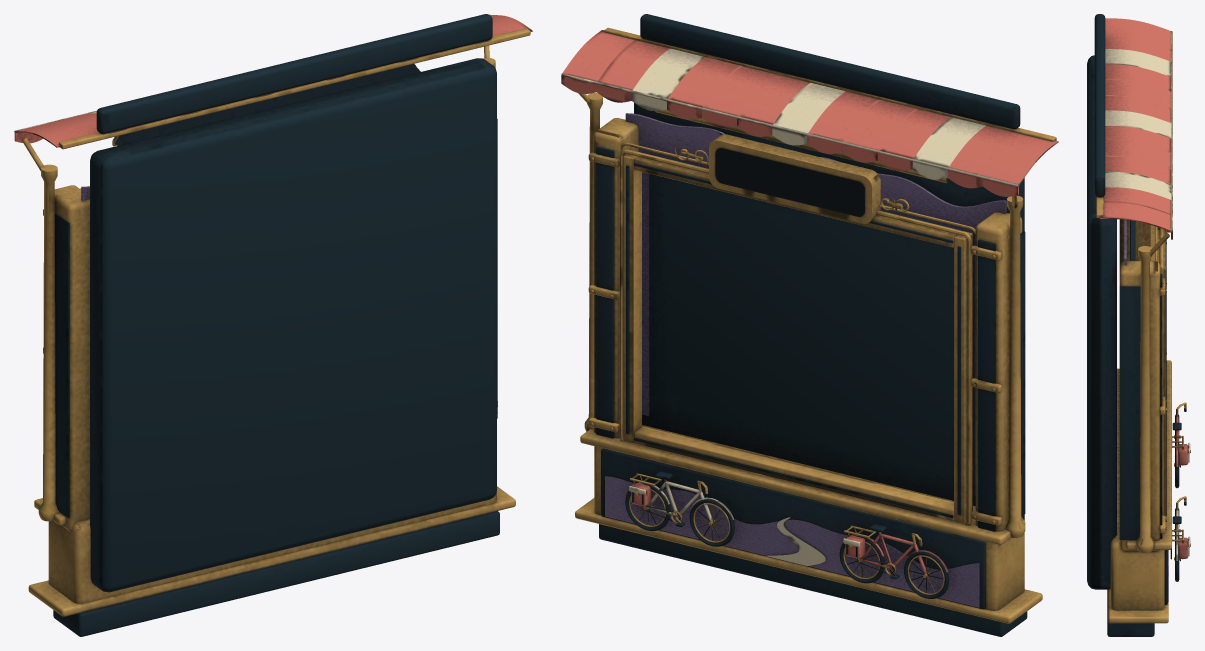
3 views of the same model, side by side, from view 1: azimuth 30°, elevation 25°; view 2: azimuth 150°, elevation 25°; view 3: azimuth 270°, elevation 25° (orthographic). The views are drawn at different scales.
Parts seen in each view (by area): view 1: Deep_blue_enamel, Brushed_brass, Coral_canvas; view 2: Deep_blue_enamel, Brushed_brass, Coral_canvas, Violet_hills, Ivory_canvas, Dark_display; view 3: Deep_blue_enamel, Brushed_brass, Coral_canvas, Ivory_canvas, Violet_hills.
Part boxes in pixels (x1,y1,x2,y2): Deep_blue_enamel: (53, 14, 499, 636); Brushed_brass: (22, 28, 530, 616); Coral_canvas: (14, 15, 532, 147); Deep_blue_enamel: (596, 14, 1027, 636); Brushed_brass: (575, 27, 1056, 623); Coral_canvas: (561, 30, 1058, 573); Violet_hills: (605, 113, 1006, 607); Ivory_canvas: (561, 48, 1019, 566); Dark_display: (715, 148, 864, 216); Deep_blue_enamel: (1087, 14, 1189, 636); Brushed_brass: (1096, 197, 1190, 623); Coral_canvas: (1100, 18, 1188, 558); Ivory_canvas: (1105, 31, 1190, 560); Violet_hills: (1124, 219, 1168, 601).
Size of the model in its own units: 9.8 by 10.4 by 2.16.
Materials: 6 (6 with a texture image).
